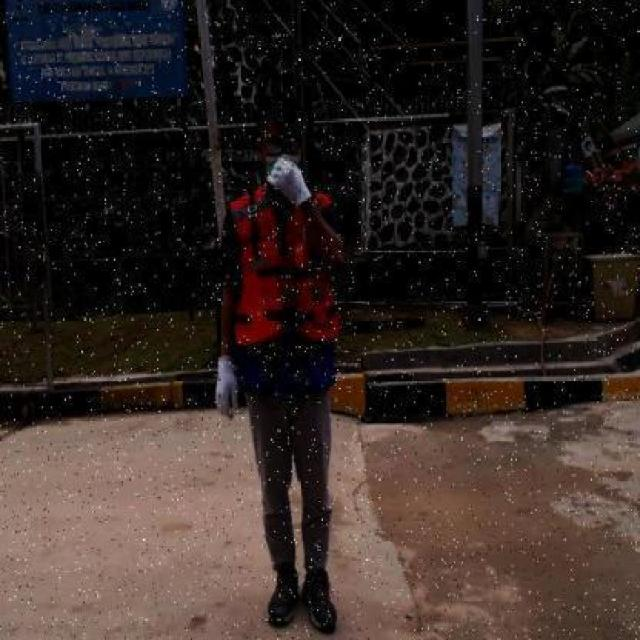Boots: (299, 567, 339, 635), (266, 561, 300, 634)
Gloves: (265, 154, 312, 212), (213, 355, 239, 422)
Mask: (266, 156, 300, 175)
Protective Glasses: (264, 137, 301, 155)
Vest: (233, 242, 342, 349)
